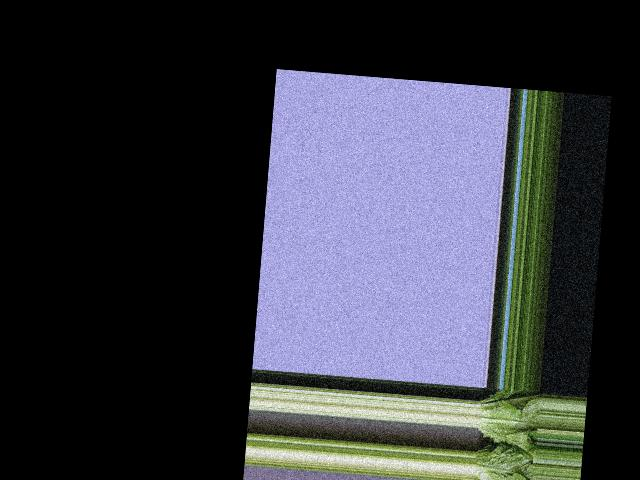lettuce: (472, 444, 533, 480)
